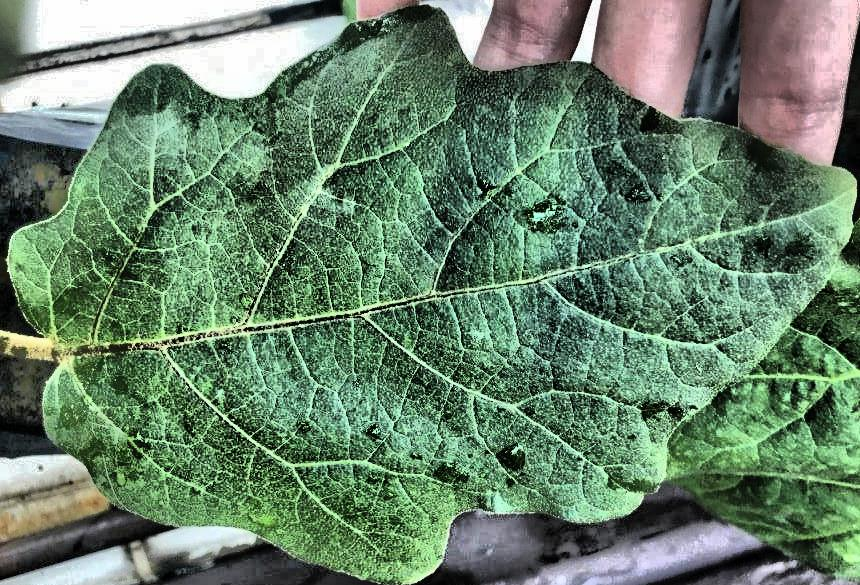HEALTHY: (1, 1, 860, 585)
